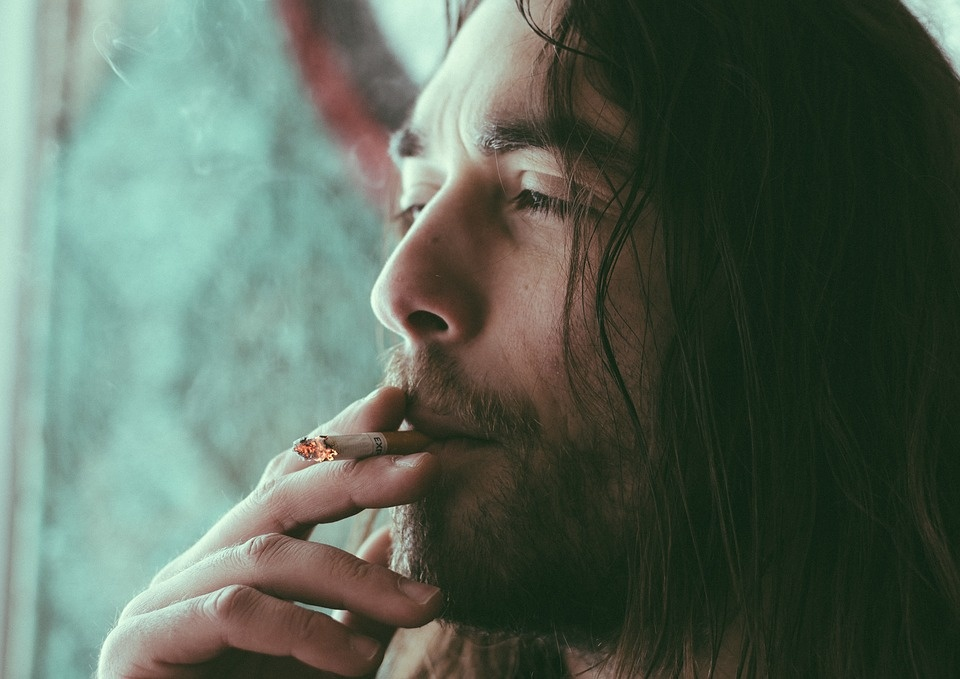sigaretta: (279, 416, 445, 456)
